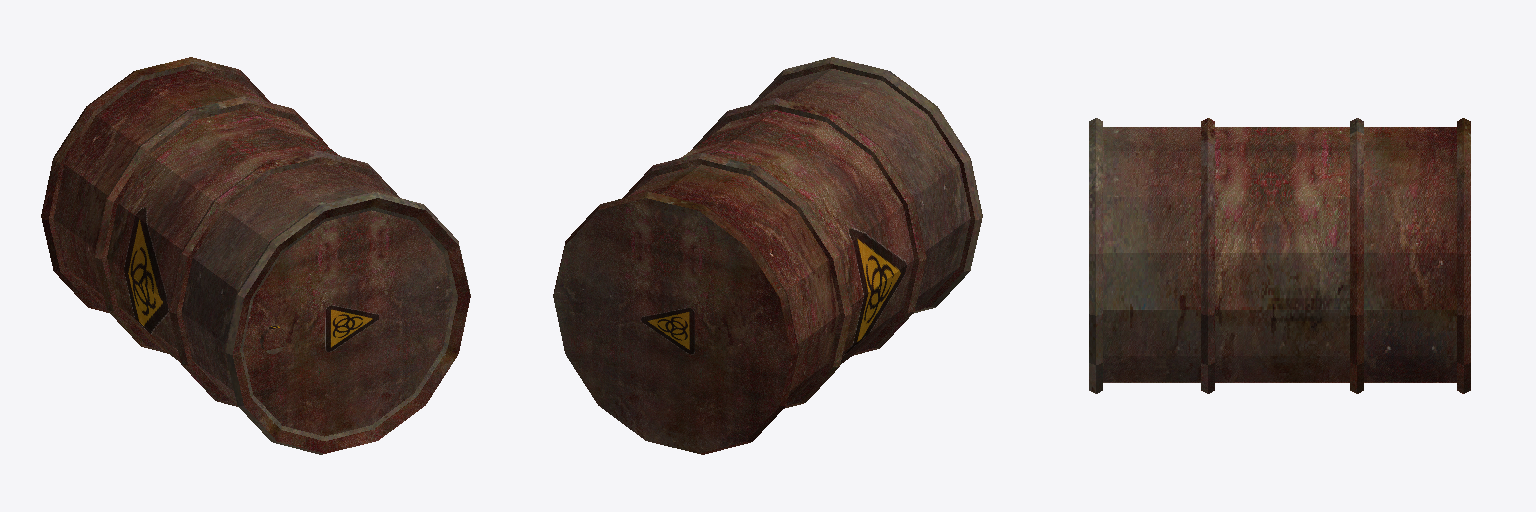
The picture shows the model from 3 angles: view 1: azimuth 30°, elevation 25°; view 2: azimuth 150°, elevation 25°; view 3: azimuth 270°, elevation 25°; orthographic projection.
Parts seen in each view (by area): view 1: Cylinder01; view 2: Cylinder01; view 3: Cylinder01.
Boxes of the visible parts, x1,y1,x2,y2 form: Cylinder01: [41, 57, 470, 454]; Cylinder01: [553, 57, 982, 454]; Cylinder01: [1089, 118, 1470, 393].
Size of the model in its own units: 0.6768 by 0.6598 by 0.9146.
Materials: 1 (1 with a texture image).